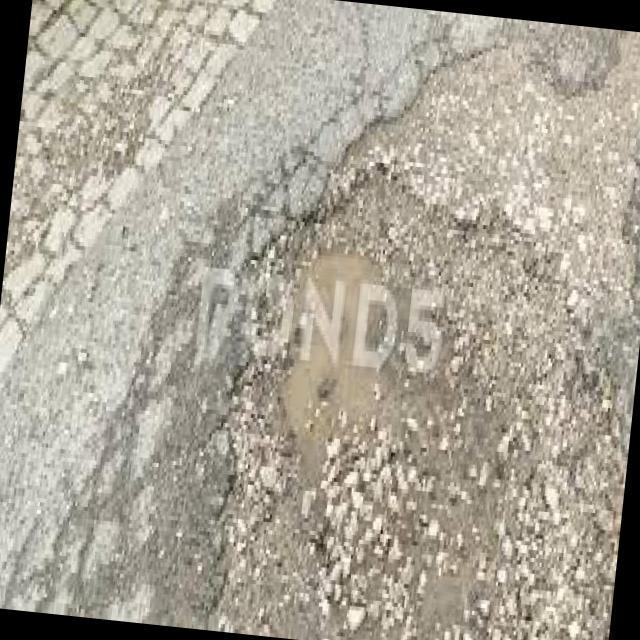pothole: (134, 147, 608, 613)
